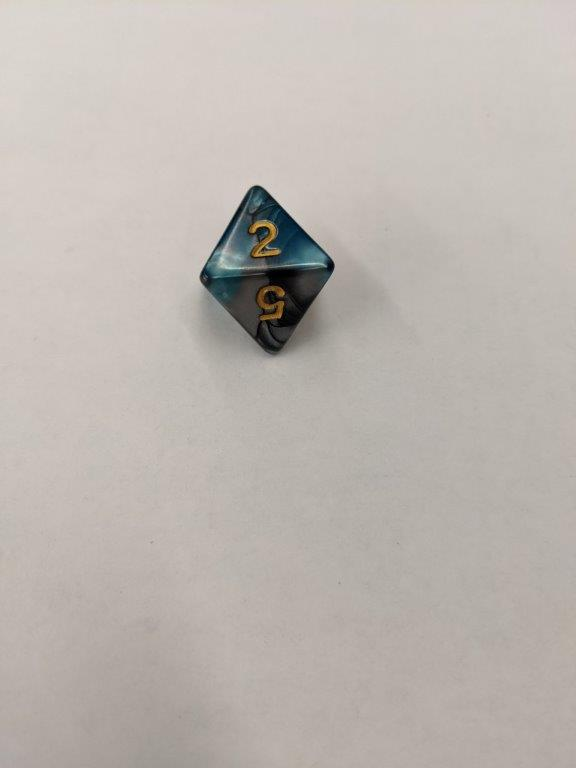d8-2: (197, 184, 334, 357)
